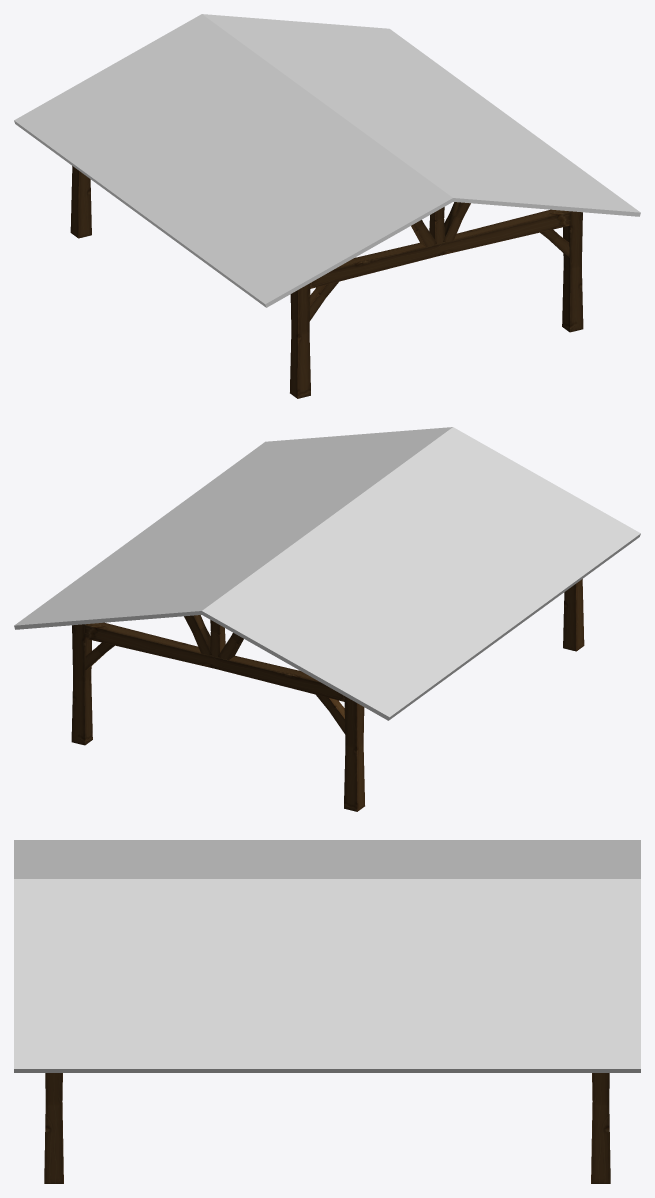
File: Food storage prototype.fbx
3 renders of one model, top to bottom at view 1: azimuth 30°, elevation 25°; view 2: azimuth 150°, elevation 25°; view 3: azimuth 270°, elevation 25°, orthographic. The views are drawn at different scales.
Parts seen in each view (by area): view 1: Plane, Wood Beam.001; view 2: Plane, Wood Beam.001; view 3: Plane, Wood Beam.001.
Boxes of the visible parts, left/top/right/bottom form: Plane: left=14, top=14, right=640, bottom=307; Wood Beam.001: left=70, top=166, right=583, bottom=398; Plane: left=14, top=427, right=640, bottom=720; Wood Beam.001: left=71, top=579, right=584, bottom=811; Plane: left=14, top=840, right=640, bottom=1072; Wood Beam.001: left=44, top=1073, right=610, bottom=1183.
Bounding box in the file's own units: 1050 × 467 × 1217.
Materials: 1 (1 with a texture image).
